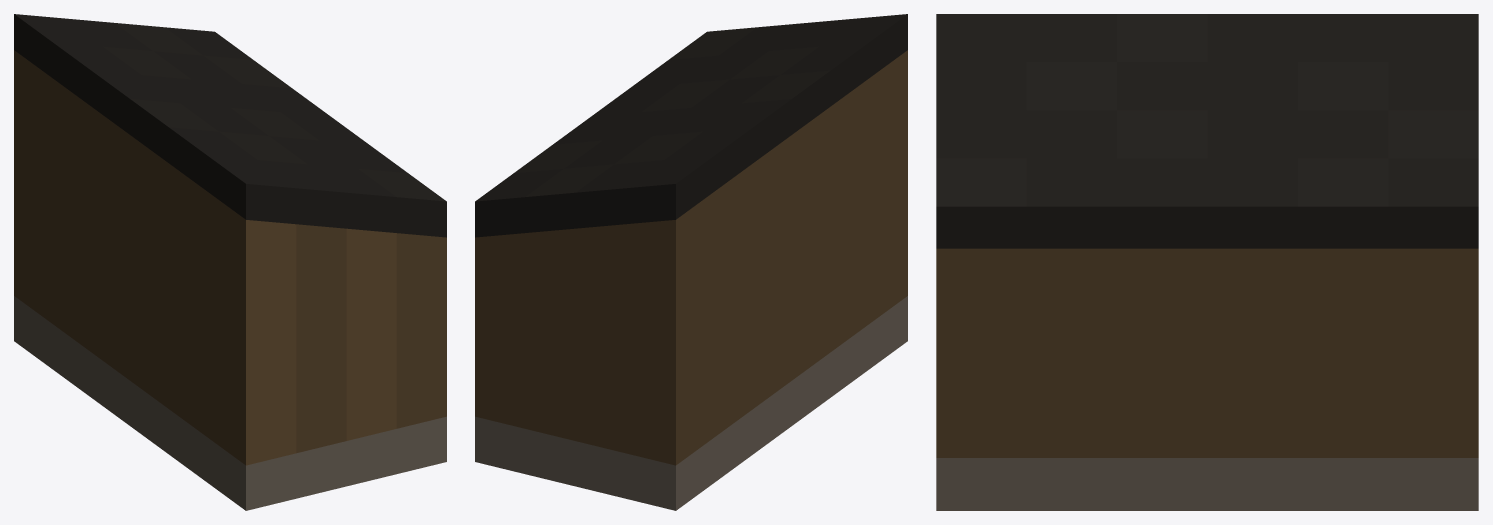
The model's file is MonkeyHouse_Mesh.fbx.
The picture shows the model from 3 angles, left to right: view 1: azimuth 30°, elevation 25°; view 2: azimuth 150°, elevation 25°; view 3: azimuth 270°, elevation 25°; orthographic projection. The views are drawn at different scales.
Parts seen in each view (by area): view 1: MonkeyHouse_Mesh; view 2: MonkeyHouse_Mesh; view 3: MonkeyHouse_Mesh.
Boxes of the visible parts, x1,y1,x2,y2 form: MonkeyHouse_Mesh: [14, 14, 446, 510]; MonkeyHouse_Mesh: [475, 14, 907, 510]; MonkeyHouse_Mesh: [936, 14, 1478, 510].
Bounding box in the file's own units: 100 × 156 × 200.
